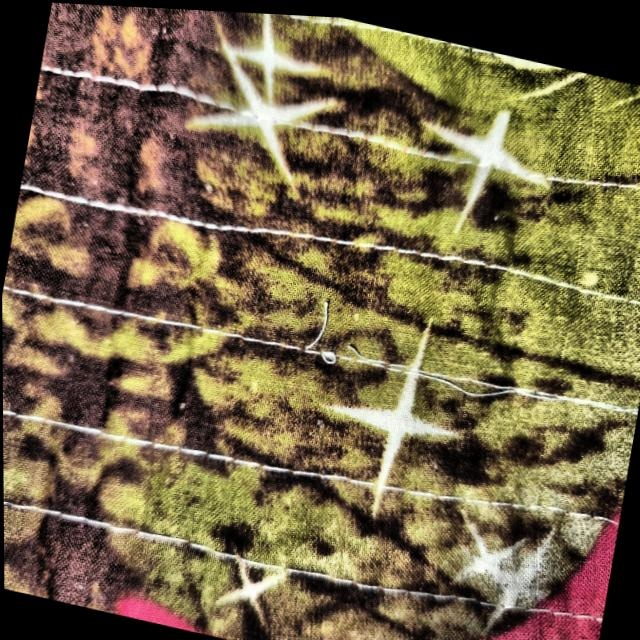Stitch: (278, 279, 396, 392)
